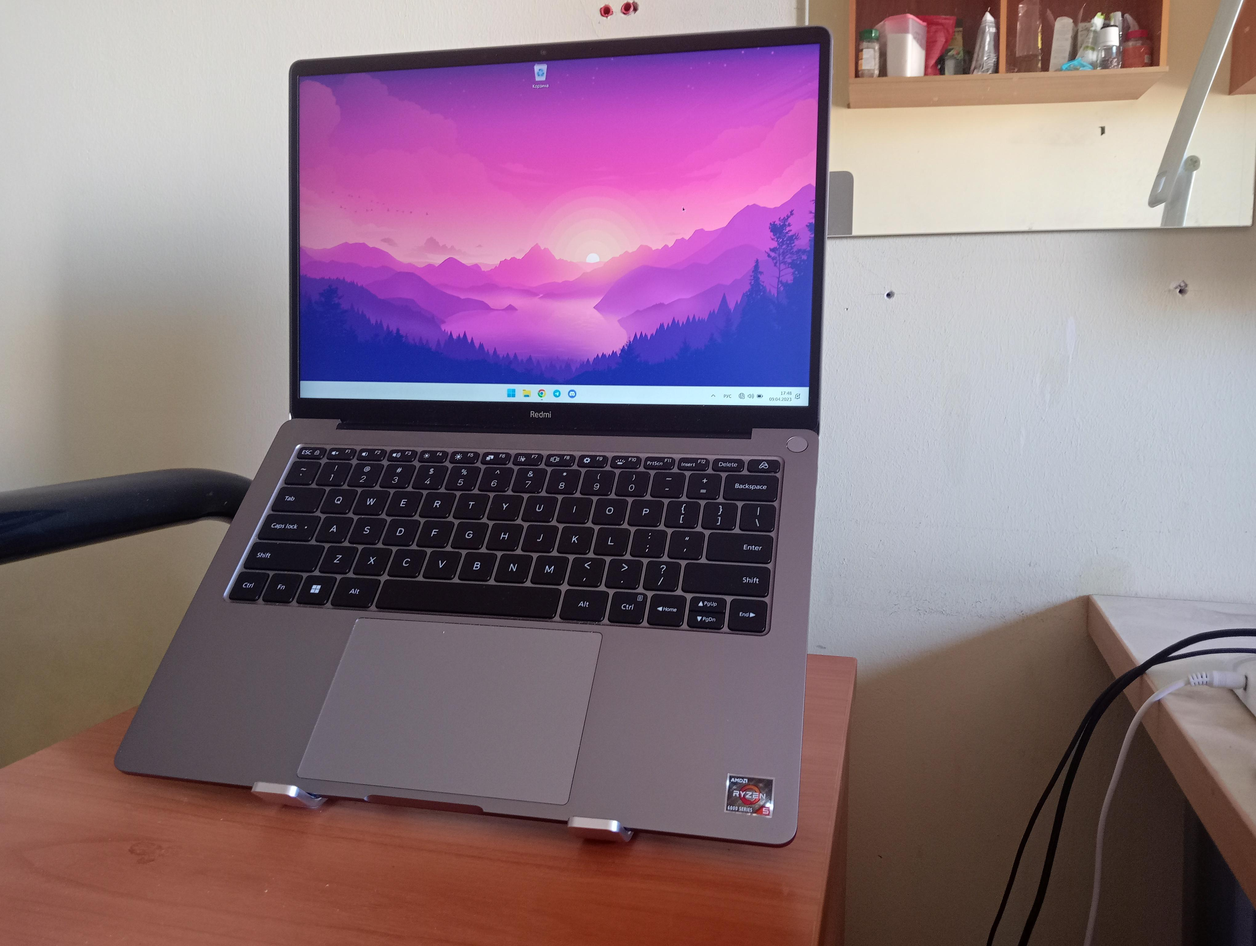monitor: (285, 22, 831, 427)
